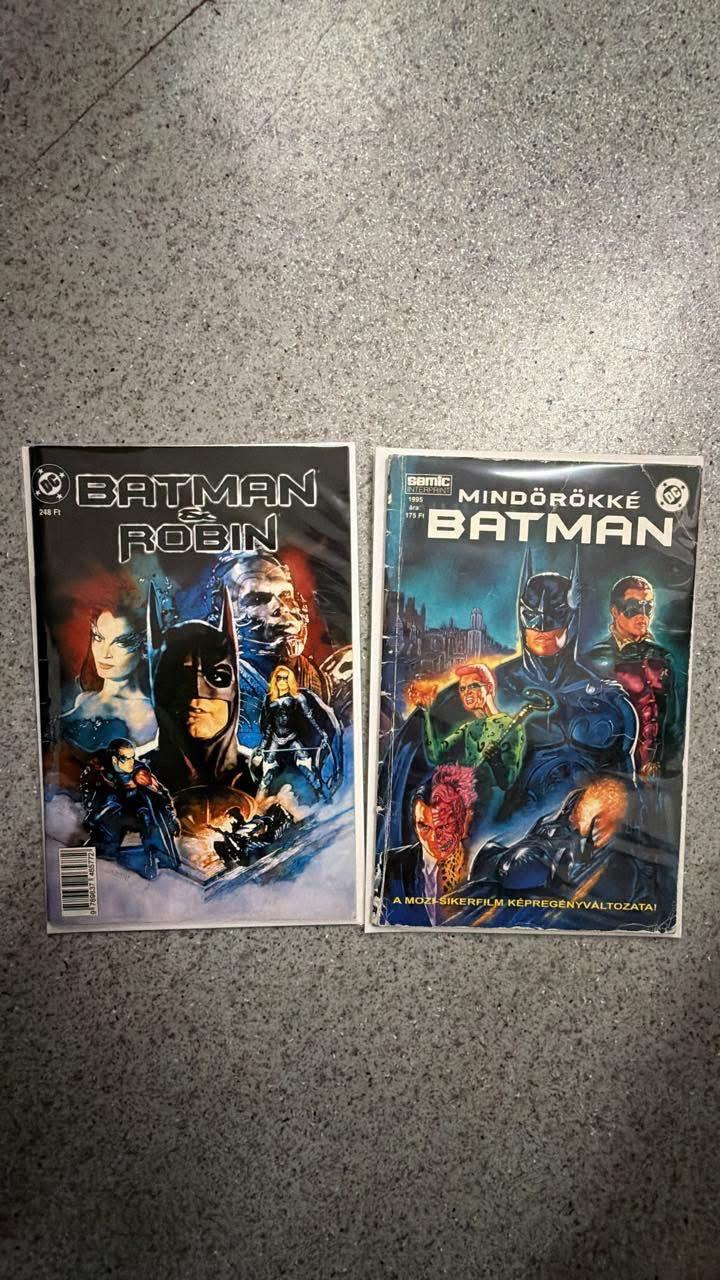comic: (25, 440, 364, 930), (365, 449, 700, 937)
